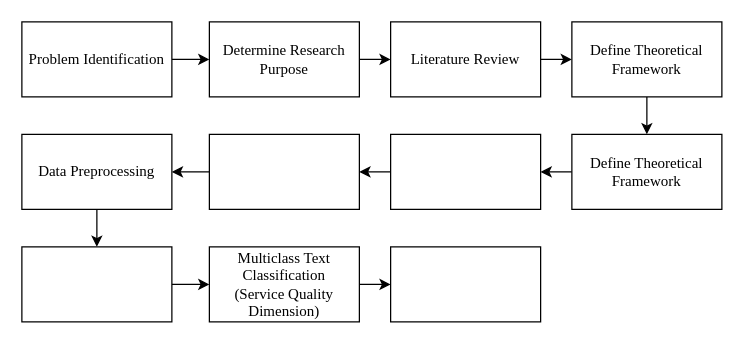
Image size: 744x344. Some labels were removed from this diagram. Each missing label, with the centre of its shape:
Data Collection: [283,171]
Define Research Methodology: [465,171]
Result Interpretation: [465,284]
Sentiment Analysis: [96,284]
